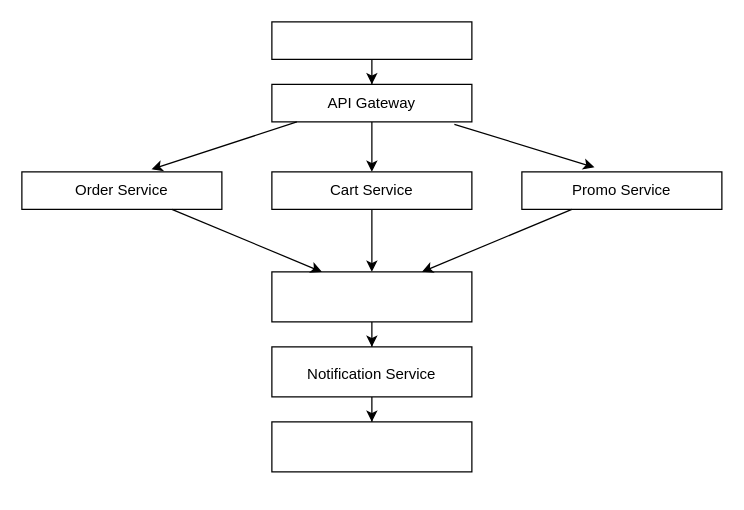
Some shapes in this 744 by 510 pixel diagram are drawn without their labels. Here are the shapes that lost their labels. From the top down, the centre of each, then its label:
At point (371, 40): "mobile app".
At point (371, 296): "Message Broker (Kafka / RabbitMQ)".
At point (371, 446): "Firebase/APNS".
